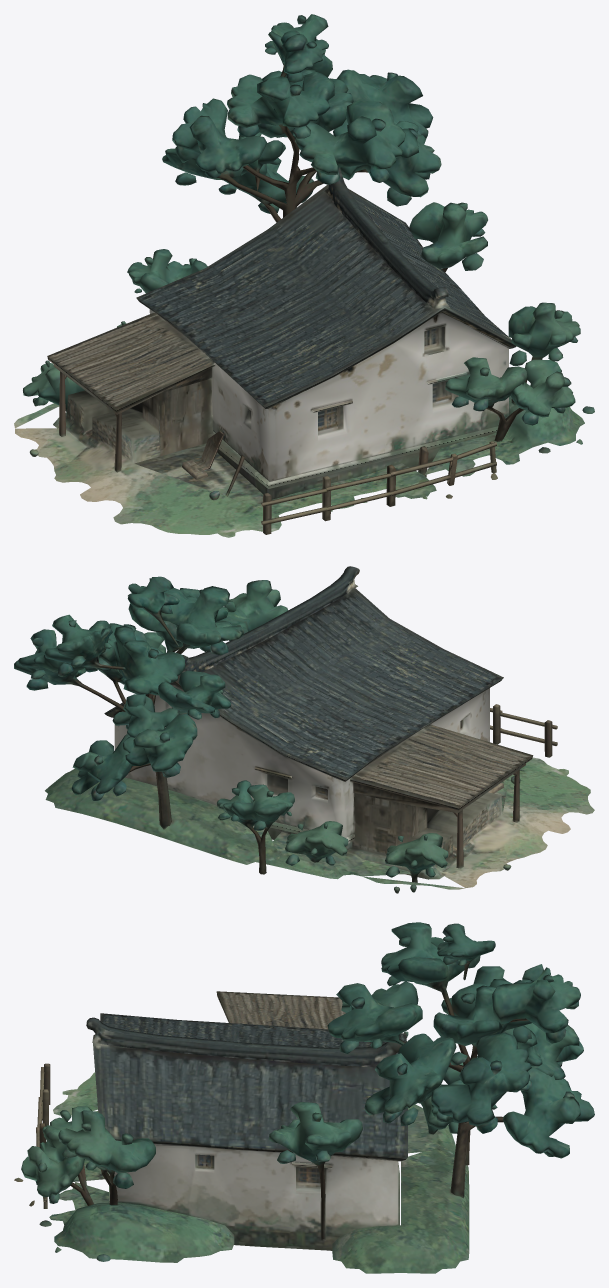
File: house4.glb
3 views of the same model, one above another, from view 1: azimuth 30°, elevation 25°; view 2: azimuth 150°, elevation 25°; view 3: azimuth 270°, elevation 25° (orthographic). The views are drawn at different scales.
Visible parts, largest first — view 1: tripo_node_0df856ac-be98-4344-b31b-2b8b1f24ee85; view 2: tripo_node_0df856ac-be98-4344-b31b-2b8b1f24ee85; view 3: tripo_node_0df856ac-be98-4344-b31b-2b8b1f24ee85.
Part boxes in pixels (x1,y1,x2,y2): tripo_node_0df856ac-be98-4344-b31b-2b8b1f24ee85: (14, 14, 594, 537); tripo_node_0df856ac-be98-4344-b31b-2b8b1f24ee85: (14, 566, 594, 893); tripo_node_0df856ac-be98-4344-b31b-2b8b1f24ee85: (14, 922, 594, 1273).
Bounding box in the file's own units: 0.9663 × 0.5767 × 0.9995.
Materials: 1 (1 with a texture image).
